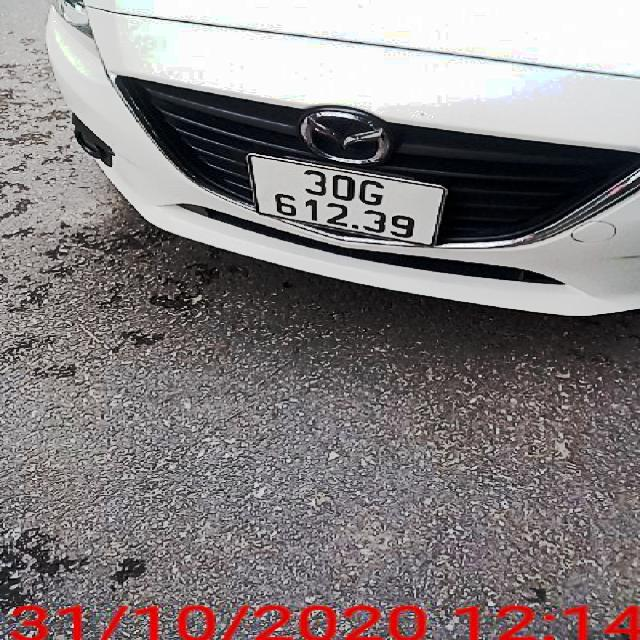license_plate: (252, 156, 452, 244)
